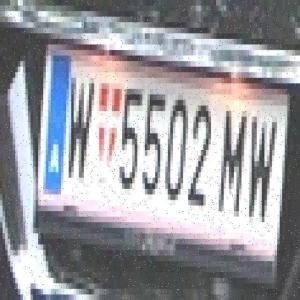Plate: (36, 38, 280, 262)
